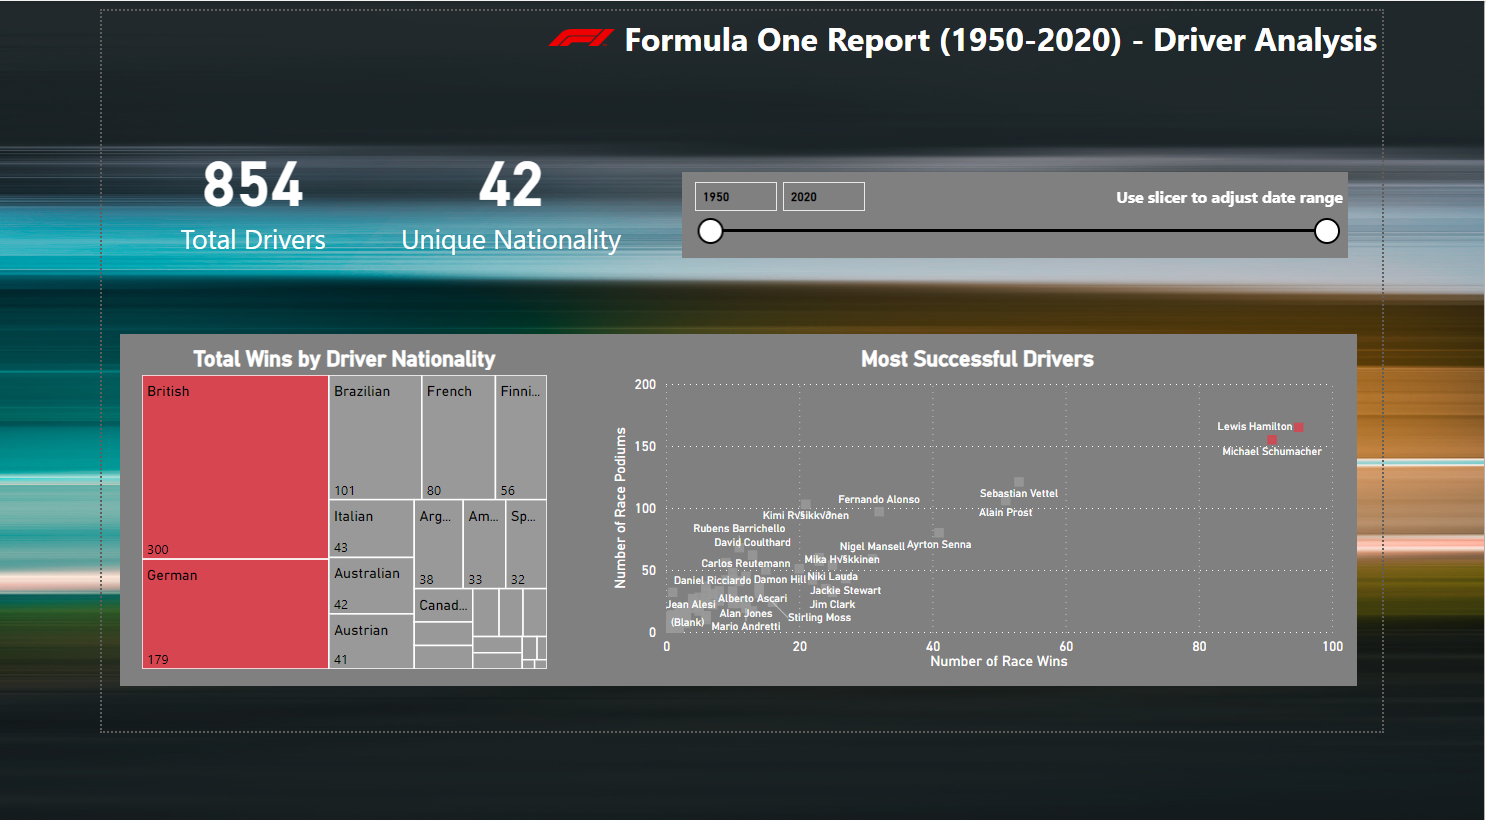

What the dashboard file says about the page in this screenshot:
{"tool":"powerbi","page":{"name":"Driver Analysis Page","canvas":[1280,720],"ordinal":1},"visuals":[{"type":"shape","box":[18,323,1237,352],"z":0},{"type":"textbox","box":[505,0,775,53],"z":1000},{"type":"image","box":[441,0,77,53],"z":2000},{"type":"card","fields":{"Values":["drivers.driver_name"]},"box":[25,97,252,171],"z":3000},{"type":"card","fields":{"Values":["drivers.driver_nationality"]},"box":[277,97,264,171],"z":4000},{"type":"treemap","title":"Total Wins by Driver Nationality","fields":{"Group":["drivers.driver_nationality"],"Values":["results.race_wins"]},"box":[35,335,415,328],"z":5000},{"type":"scatterChart","title":"Most Successful Drivers","fields":{"X":["results.race_wins"],"Y":["results.race_podium"],"Category":["drivers.driver_name"]},"box":[505,335,741,328],"z":6000},{"type":"slicer","fields":{"Values":["races.date.Variation.Date Hierarchy.Year"]},"box":[580,161,666,86],"z":7000},{"type":"textbox","box":[998,170,248,34],"z":8000},{"type":"actionButton","box":[0,0,207,97],"z":9000}]}

Visuals, with their boxes in screenshot pixels (x1, y1, x2, y2), scaled from the page's 1280x720 canvas onto the 1486x820 screenshot:
shape: bbox=[21, 368, 1457, 769]
textbox: bbox=[586, 0, 1485, 60]
image: bbox=[512, 0, 601, 60]
card - drivers.driver_name: bbox=[29, 110, 322, 305]
card - drivers.driver_nationality: bbox=[322, 110, 628, 305]
"Total Wins by Driver Nationality" treemap: bbox=[41, 382, 522, 755]
"Most Successful Drivers" scatterChart: bbox=[586, 382, 1447, 755]
slicer - races.date.Variation.Date Hierarchy.Year: bbox=[673, 183, 1447, 281]
textbox: bbox=[1159, 194, 1447, 232]
actionButton: bbox=[0, 0, 240, 110]
